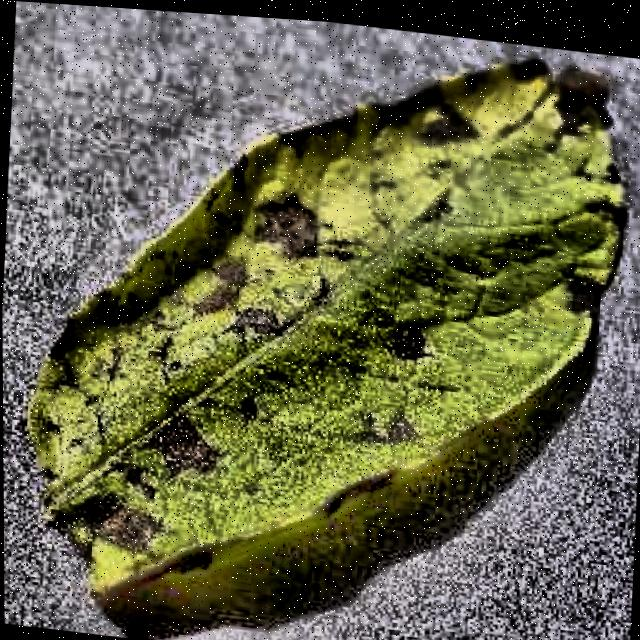Potato_leaf_early_blight: (16, 57, 638, 626)
